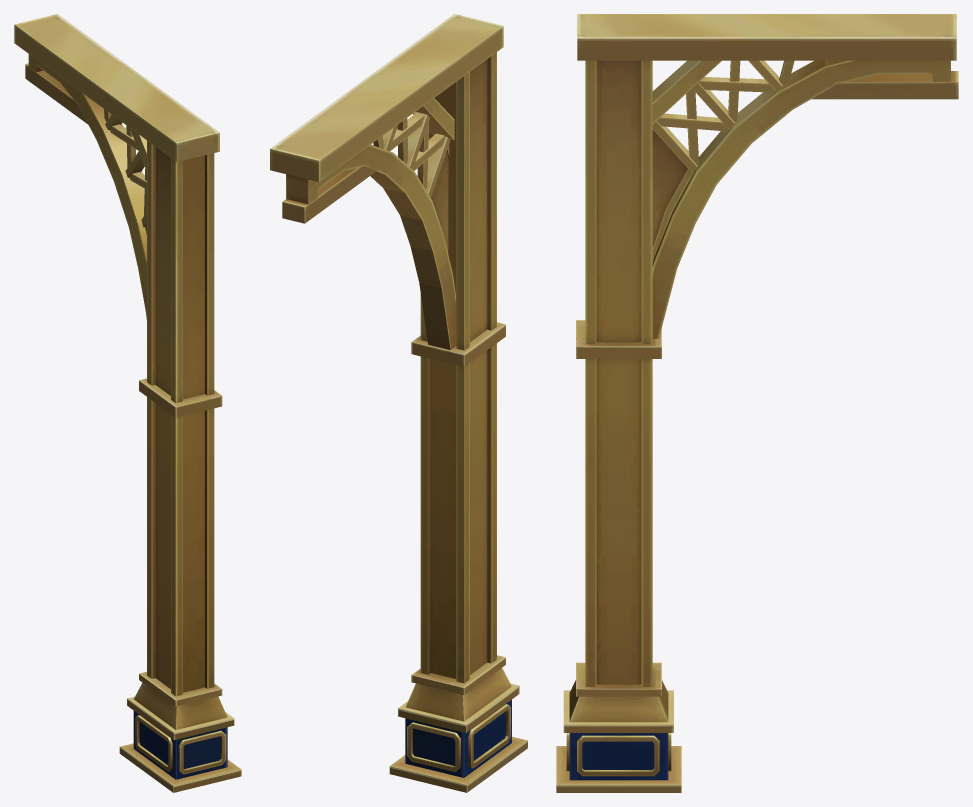
The model's file is my_highlander_01_pillar_01.glb.
3 views of the same model, side by side, from view 1: azimuth 30°, elevation 25°; view 2: azimuth 150°, elevation 25°; view 3: azimuth 270°, elevation 25° (orthographic). The views are drawn at different scales.
Visible parts, largest first — view 1: my_highlander_01_pillar_01; view 2: my_highlander_01_pillar_01; view 3: my_highlander_01_pillar_01.
Part boxes in pixels (bbox=[...]): my_highlander_01_pillar_01: bbox=[14, 14, 241, 792]; my_highlander_01_pillar_01: bbox=[270, 14, 527, 792]; my_highlander_01_pillar_01: bbox=[556, 14, 958, 792].
Bounding box in the file's own units: 0.00265 × 0.0238 × 0.0116.
1 material, 1 textured.
